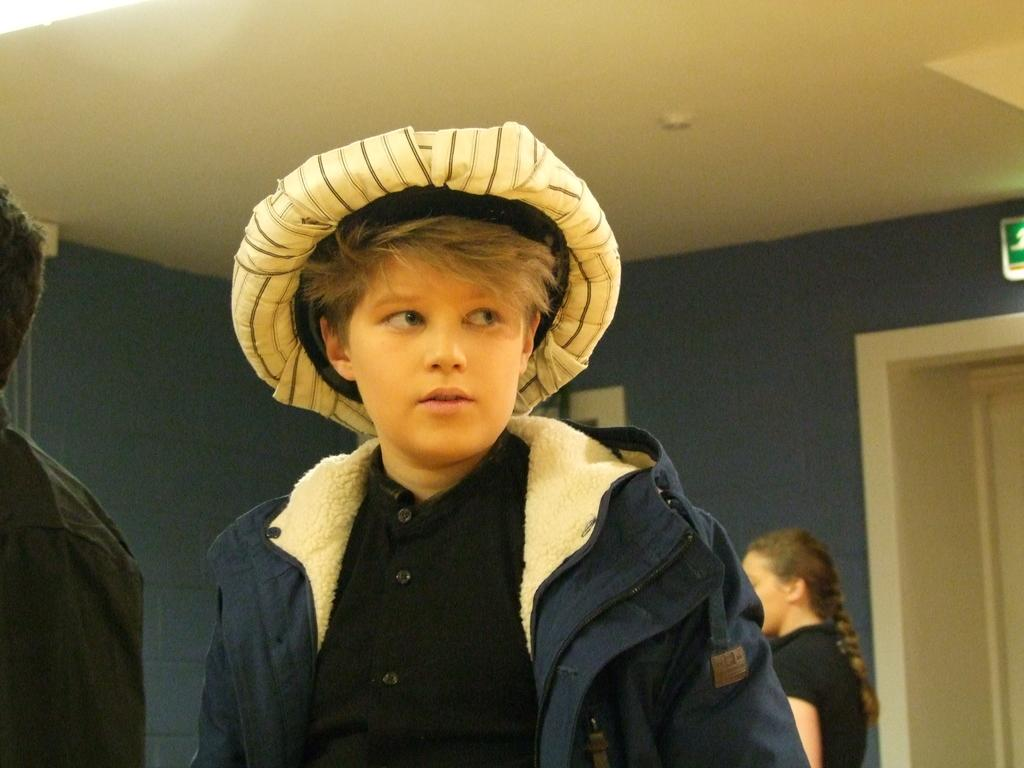Hat: (229, 120, 623, 434)
